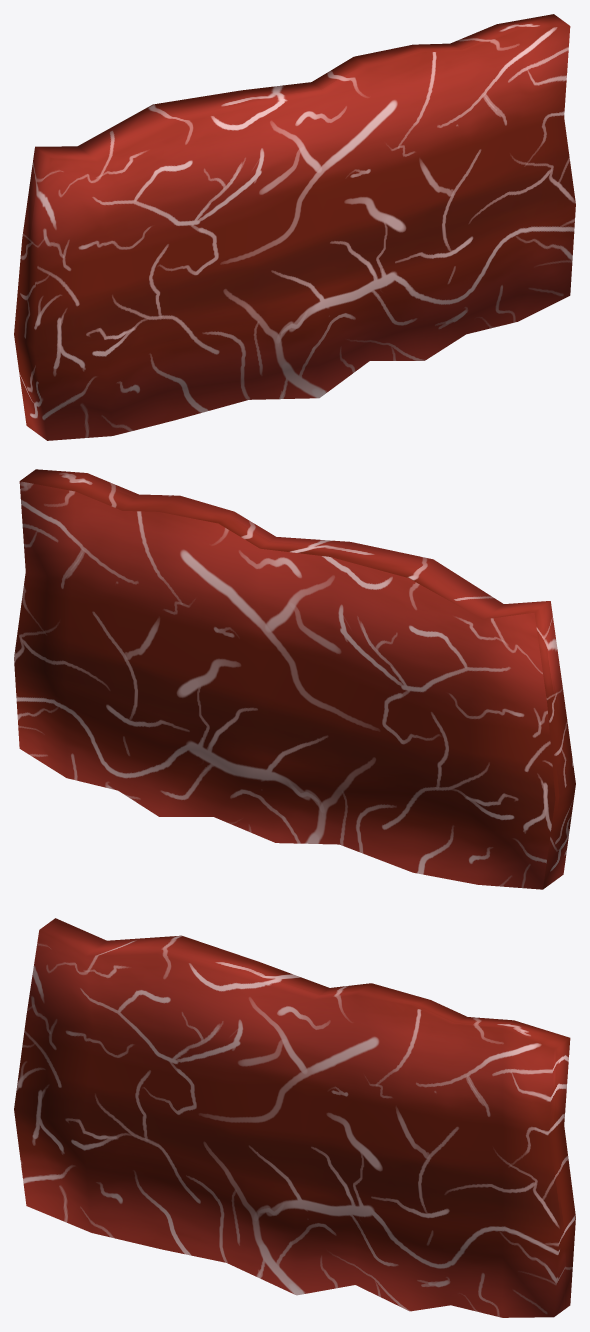
File: wagyu_outside_skirt.fbx
3 renders of one model, top to bottom at view 1: azimuth 30°, elevation 25°; view 2: azimuth 150°, elevation 25°; view 3: azimuth 330°, elevation 25°, orthographic.
Visible parts, largest first — view 1: wagyu_outside_skirt; view 2: wagyu_outside_skirt; view 3: wagyu_outside_skirt.
Part boxes in pixels (bbox=[...]): wagyu_outside_skirt: bbox=[14, 14, 575, 440]; wagyu_outside_skirt: bbox=[14, 469, 575, 889]; wagyu_outside_skirt: bbox=[14, 918, 575, 1317].
Size of the model in its own units: 58.61 by 32.4 by 4.76.
